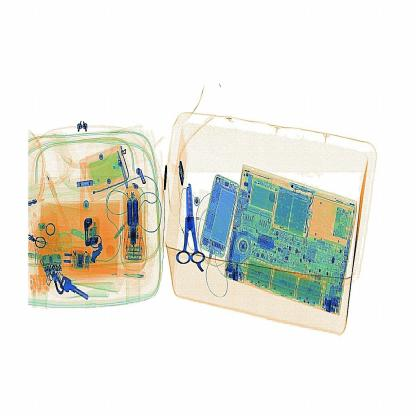gun: (166, 176, 216, 282)
